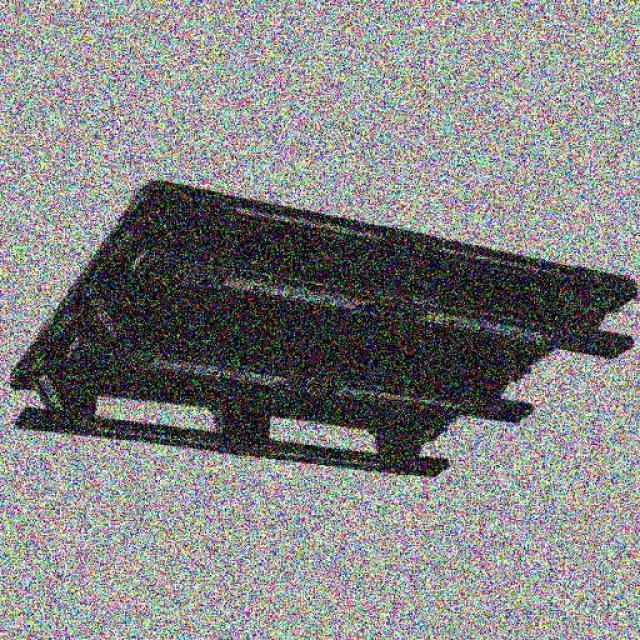non-igps: (0, 166, 634, 488)
